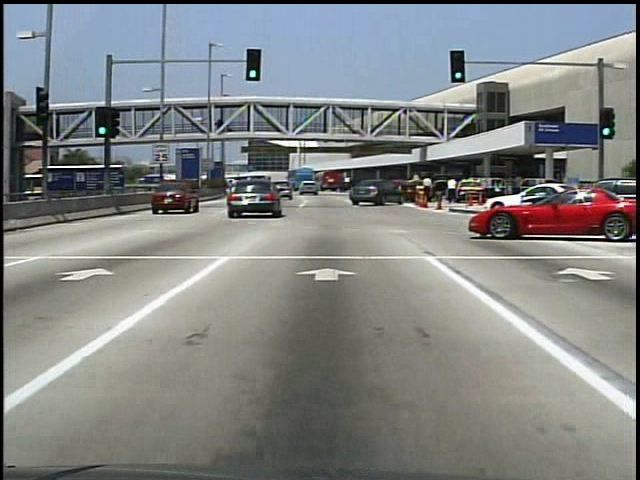person: (420, 173, 436, 208), (491, 178, 506, 213), (447, 175, 463, 204), (217, 119, 226, 136)
